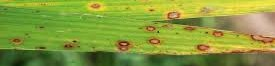Bercak Coklat: (10, 35, 26, 46), (60, 42, 78, 50), (87, 3, 104, 11)
